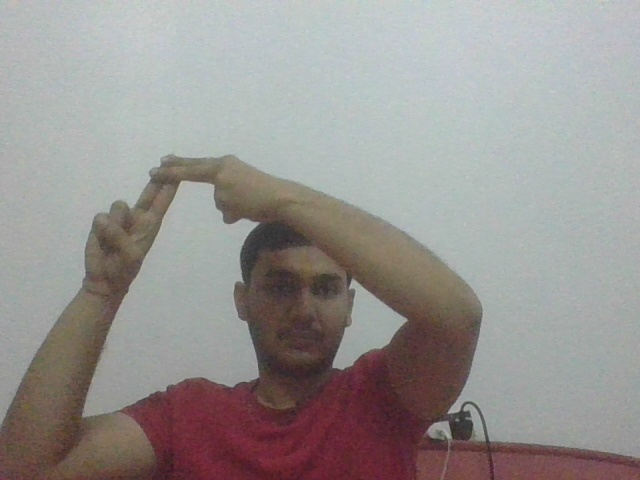F: (68, 150, 276, 276)
